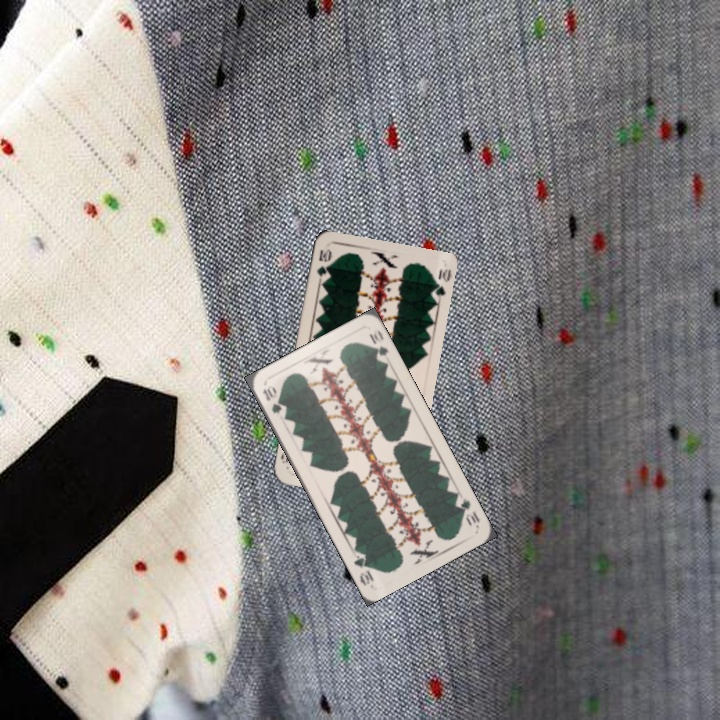G10: (451, 494, 483, 528), (313, 245, 334, 285), (259, 385, 285, 416)
